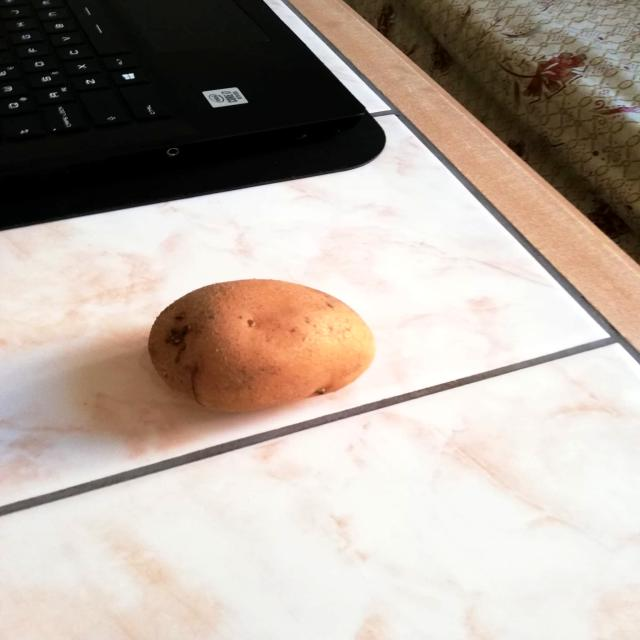potato: (140, 274, 385, 416)
